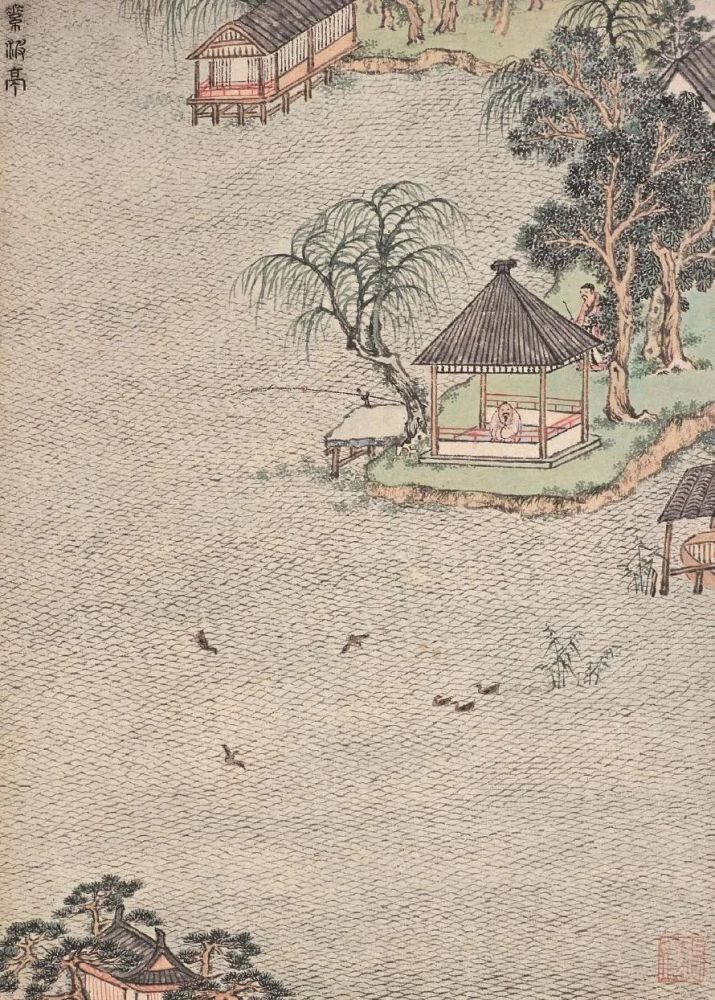booth: (441, 275, 583, 466), (205, 6, 357, 92)
house: (670, 469, 715, 582), (198, 934, 281, 995), (91, 938, 172, 996), (78, 885, 139, 925)
man: (489, 404, 515, 433), (581, 291, 592, 325)
river: (201, 588, 715, 1000), (6, 12, 196, 566), (15, 572, 183, 851), (206, 500, 603, 589), (195, 185, 249, 583), (209, 117, 488, 177), (377, 77, 487, 117)
tree: (577, 152, 715, 301), (17, 908, 71, 996), (612, 290, 640, 419), (628, 108, 714, 140), (665, 300, 683, 363)
willow: (288, 208, 461, 336), (522, 6, 705, 52), (391, 368, 423, 443)
